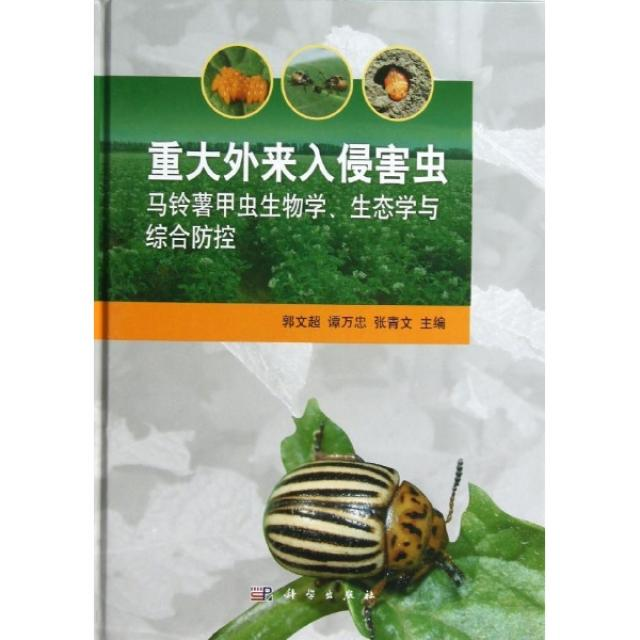ShuCaiHuaBanChong-Grown-: (264, 443, 468, 584)
